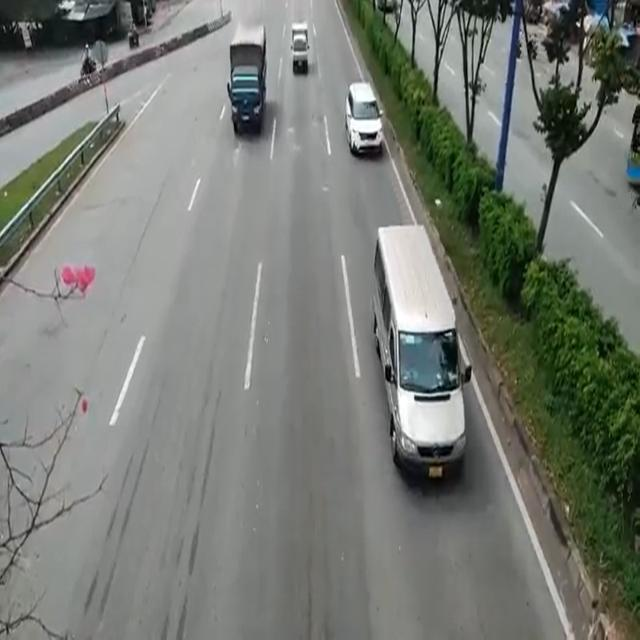bus: (370, 220, 470, 492)
car: (342, 78, 382, 156)
truck: (227, 20, 265, 136), (289, 18, 313, 78)
